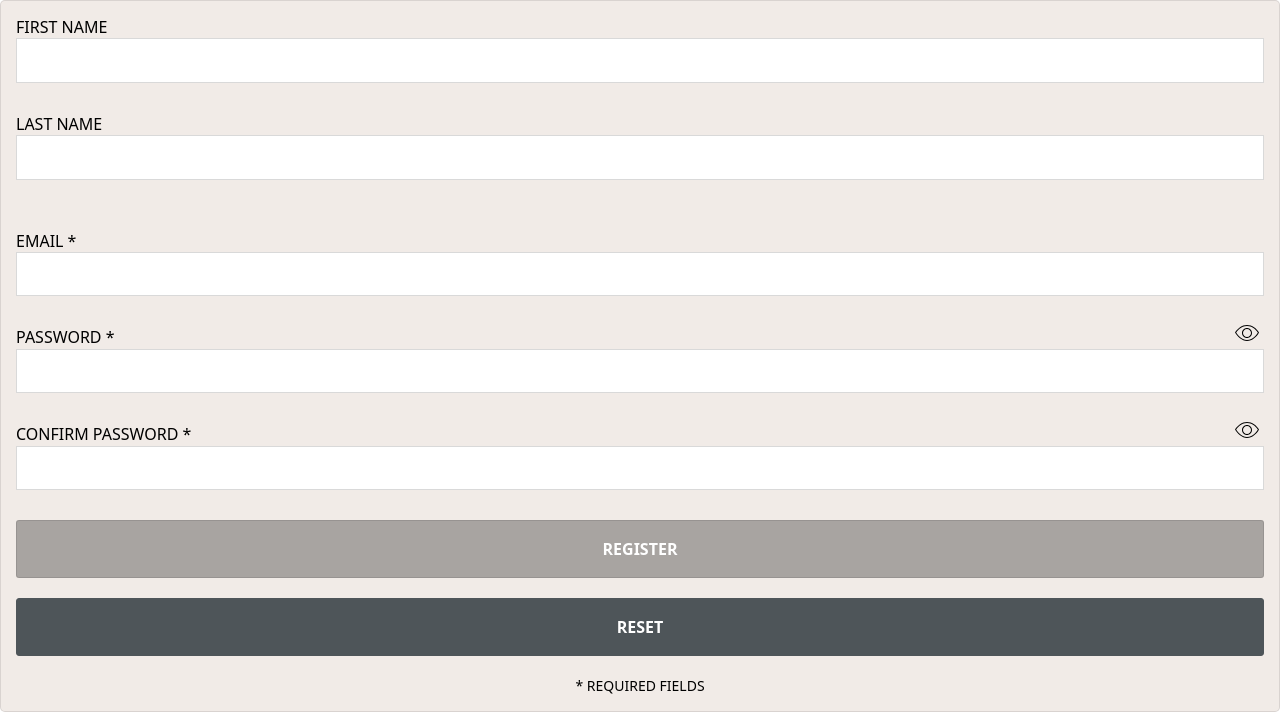
Test case: RegistrationForm › input validations › repeat password › do not match
Type "123456789" into the password field with id "confirm_password" at (640, 468), box [16,446,1264,490]
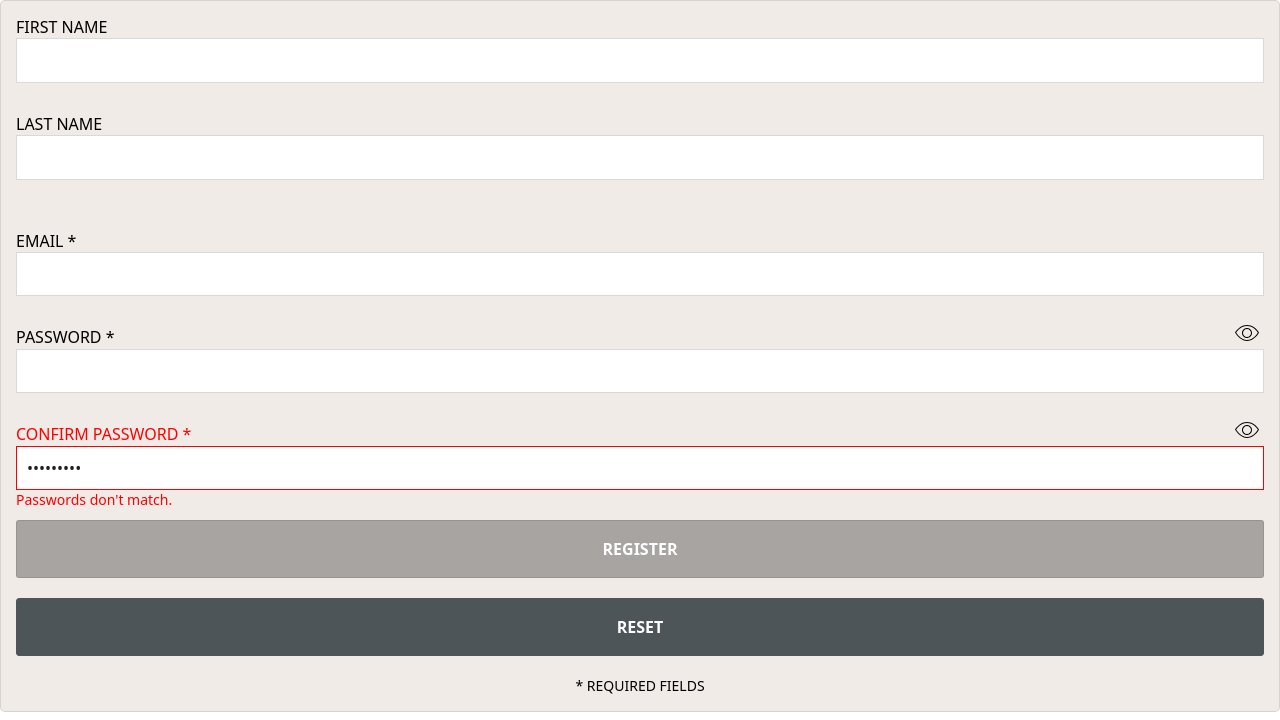
Now the text "Passwords don't match." is shown, box [16,490,172,510]
